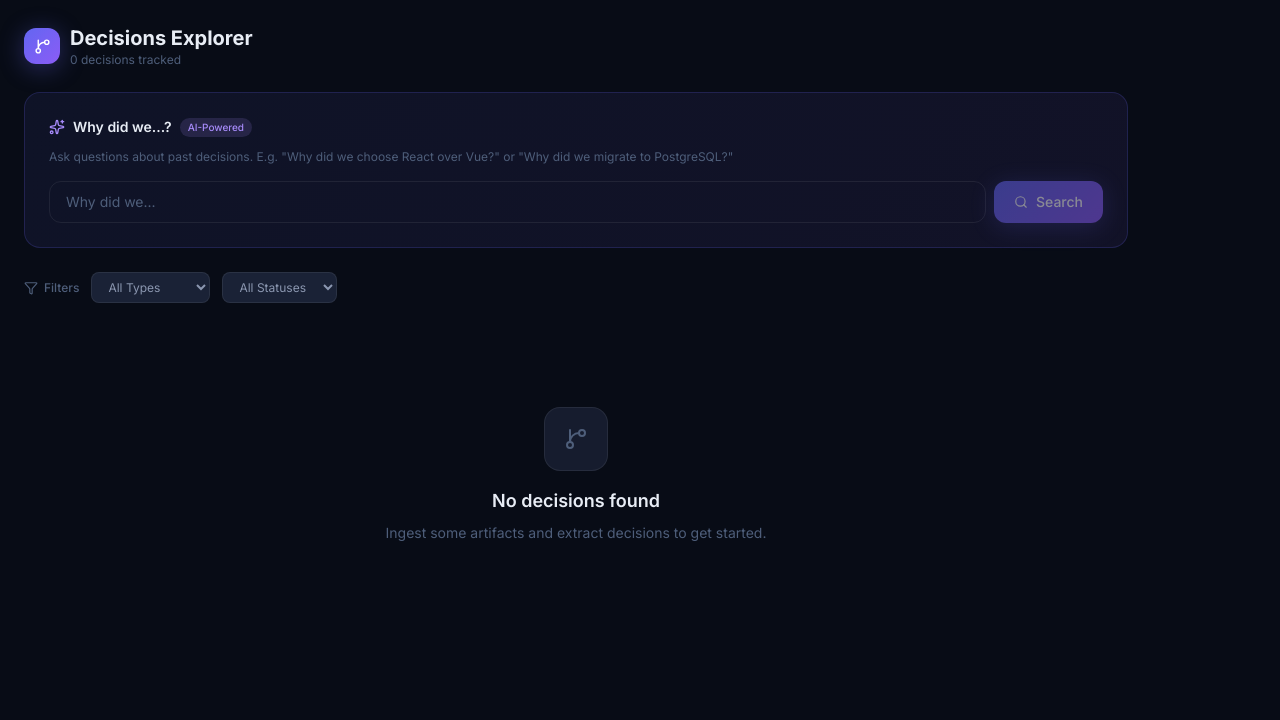
Test: DecisionsPage › shows AI answer when why search returns results
This screenshot has width=1280, height=720.
In the field with placeholder "Why did we...": (518, 202) [49,181,986,223], type "choose React?"
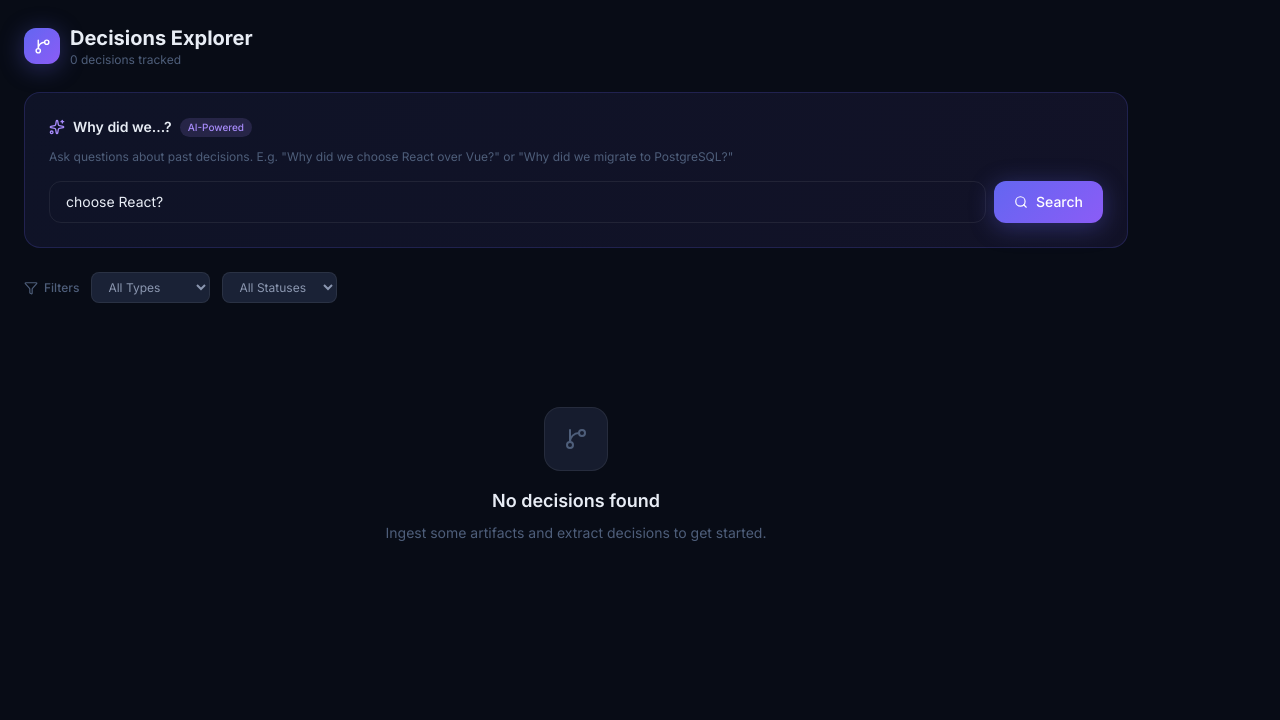
Click the button "Search": click(1048, 202) [994,181,1103,223]
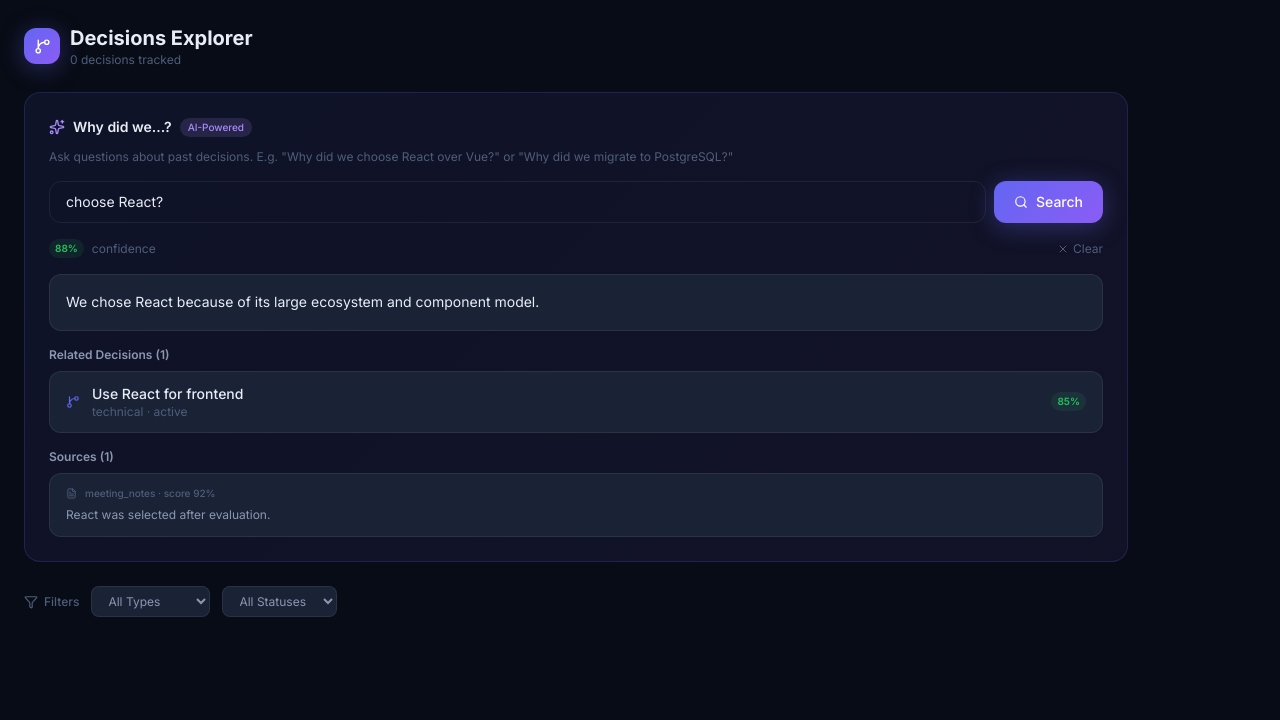
expect the text "We chose React because of its large ecosystem and component model." is shown: met, box [66,293,539,310]
expect the text "Related Decisions (1)" is shown: met, box [49,347,170,362]
expect the text "Sources (1)" is shown: met, box [49,449,114,464]
